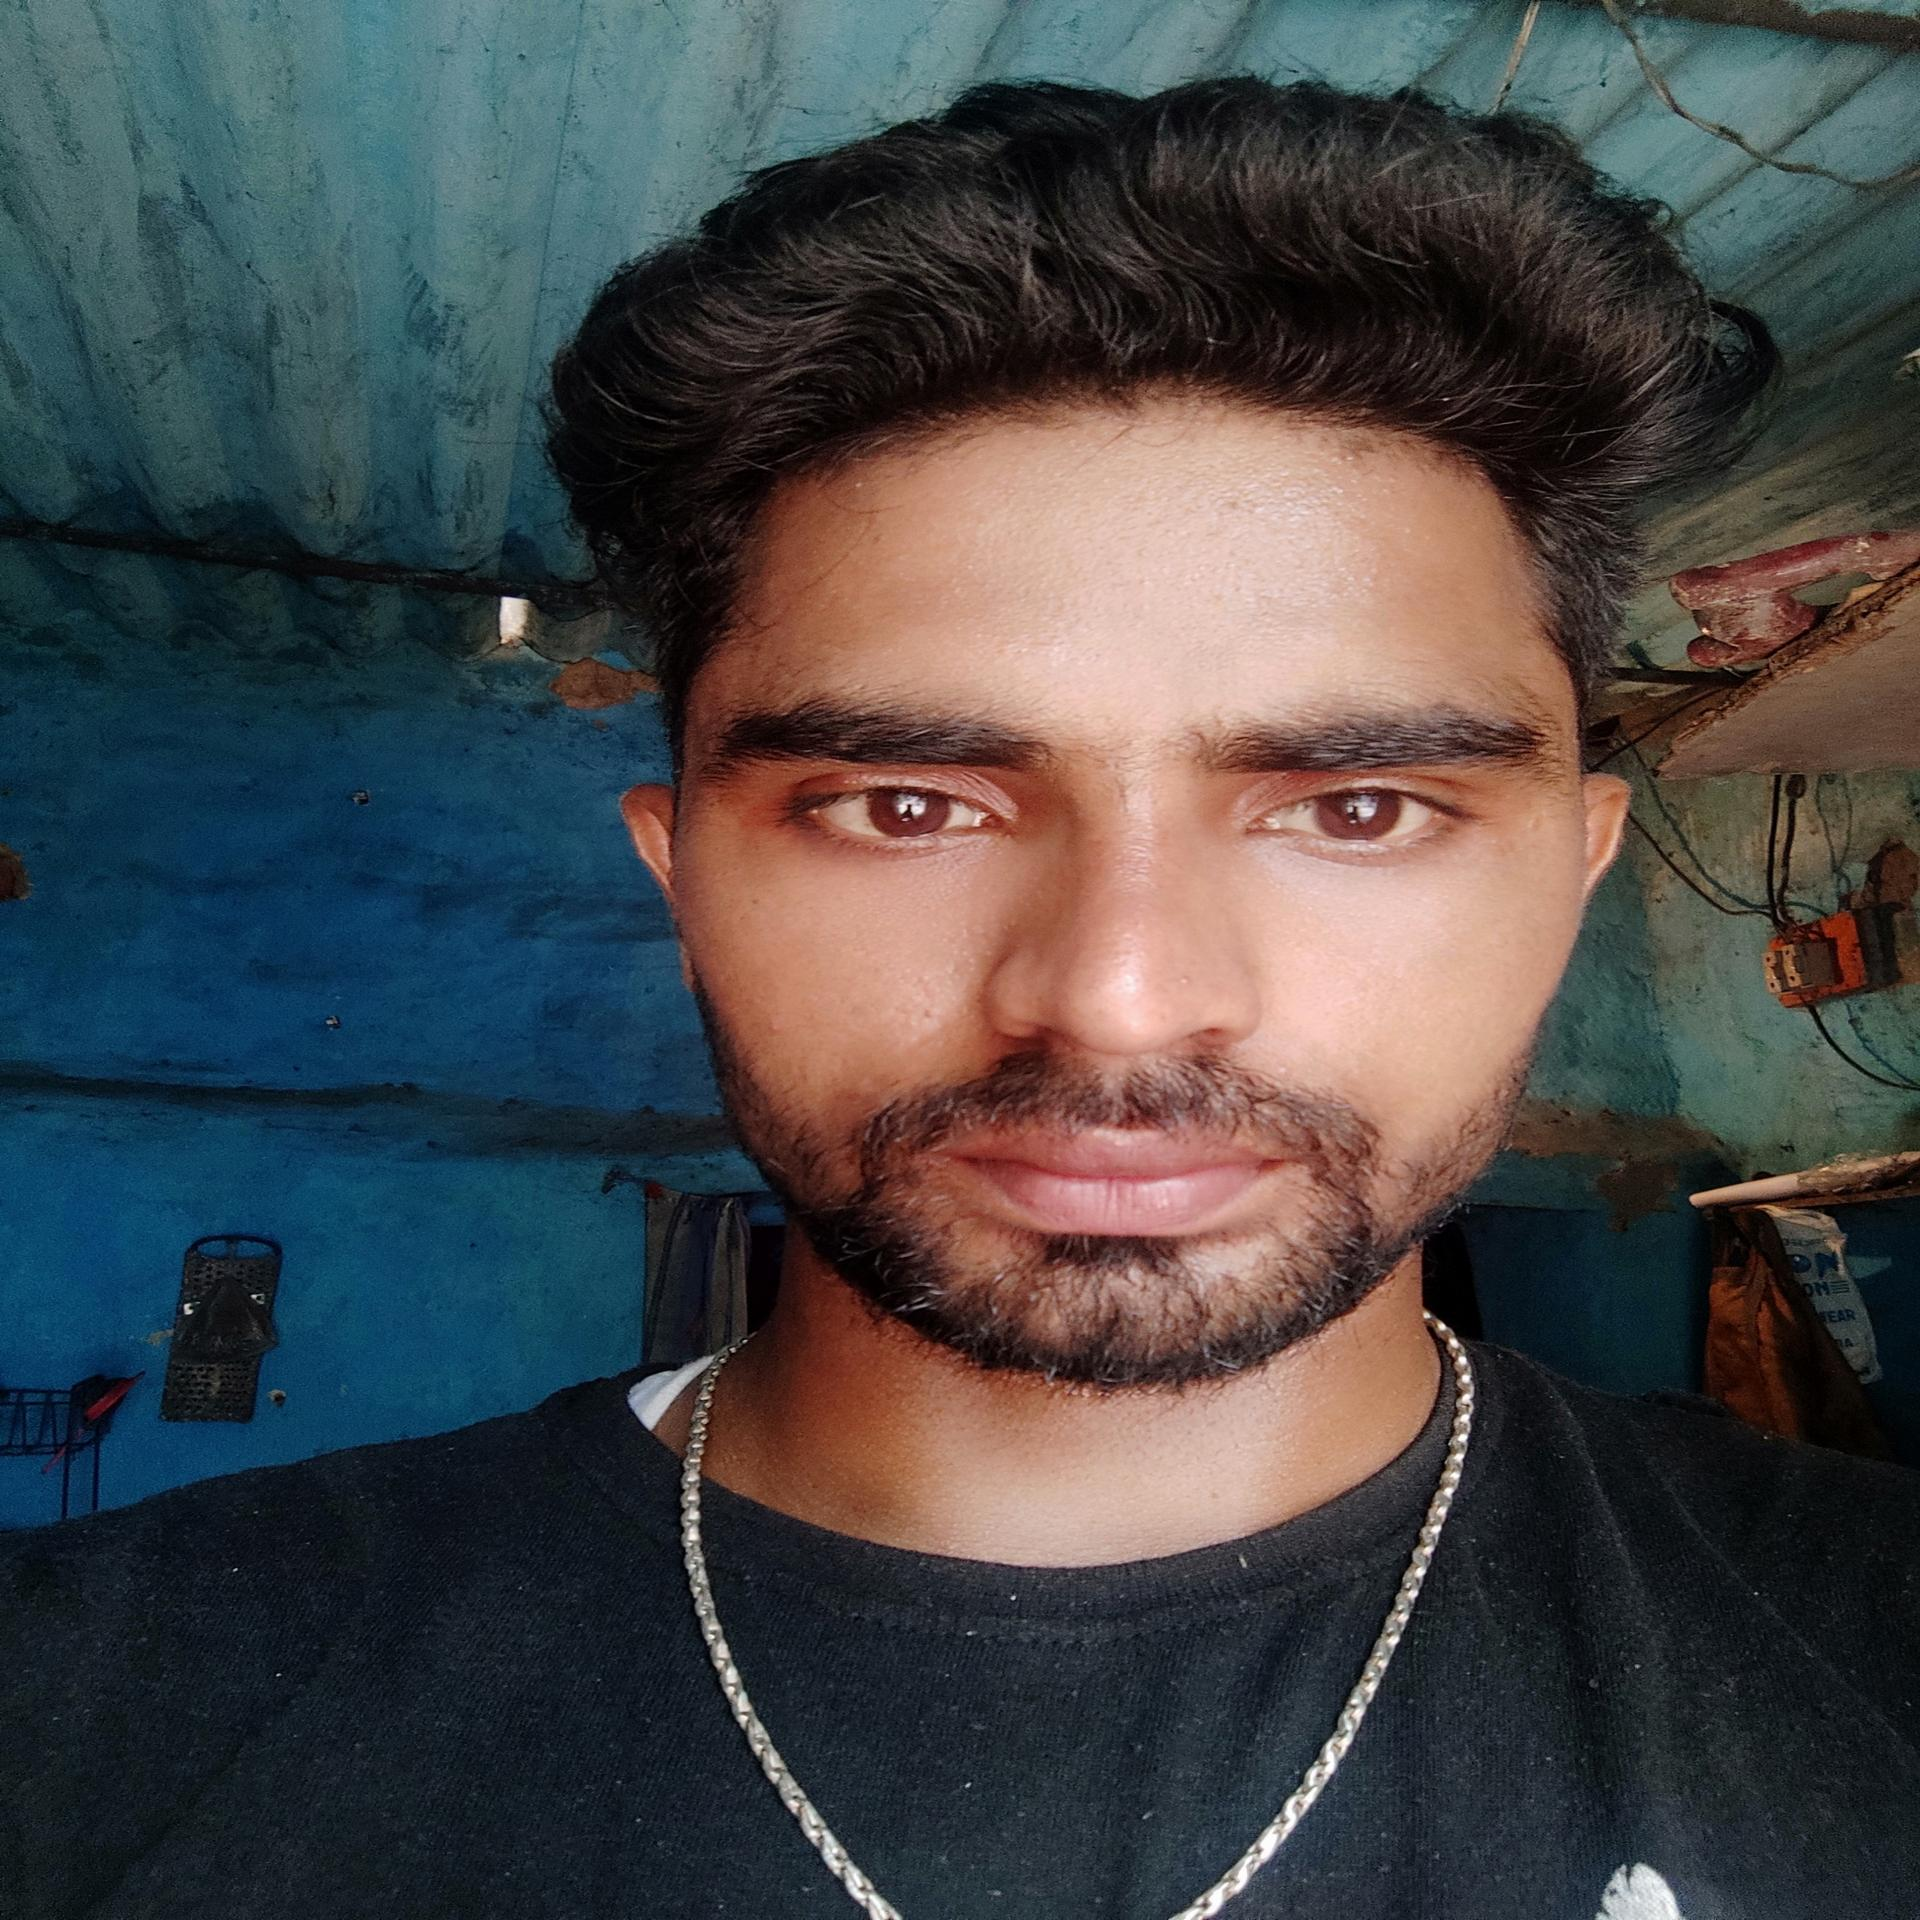Acne: (1326, 445, 1373, 501), (1224, 494, 1257, 526), (1176, 971, 1203, 995), (1384, 484, 1398, 503)
